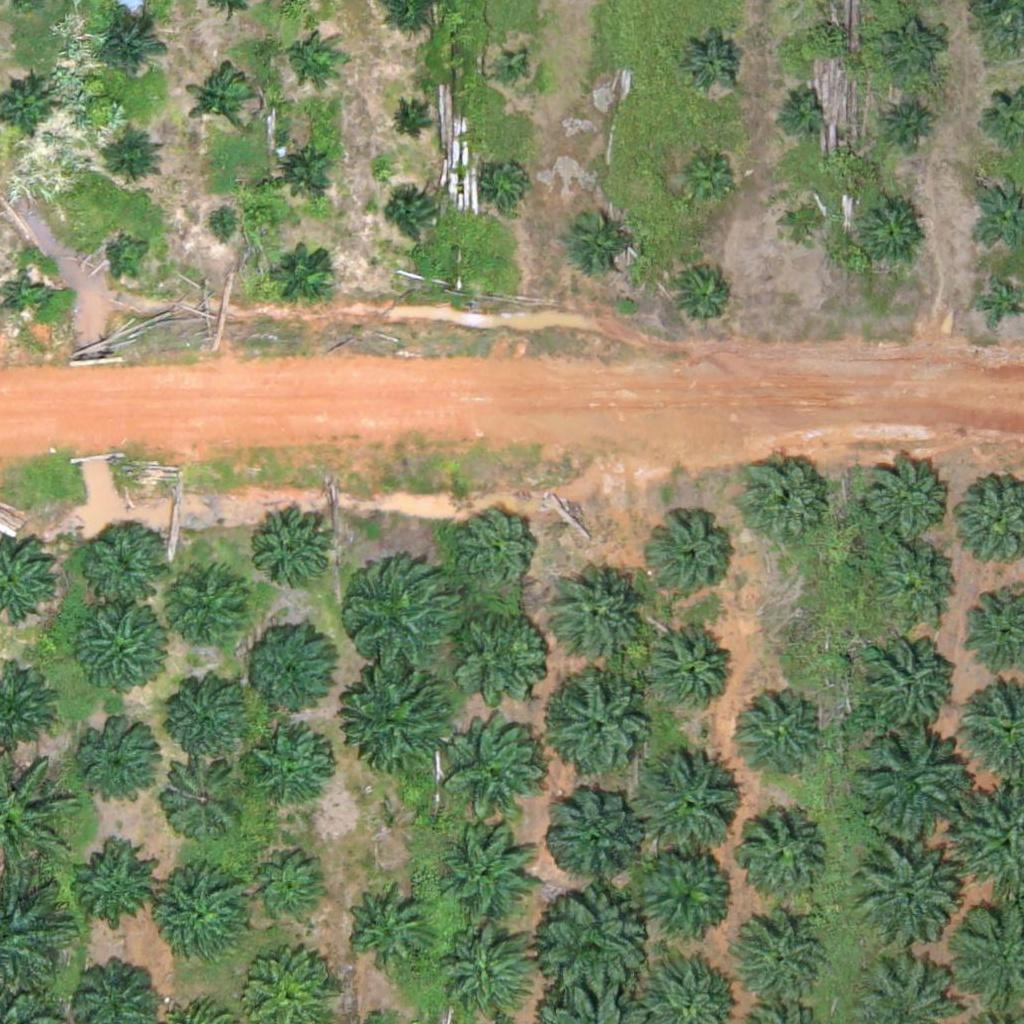Kelapa_Sawit: (340, 552, 465, 678), (853, 729, 965, 843), (628, 745, 740, 858), (545, 673, 657, 786), (538, 892, 650, 1005), (724, 689, 824, 790), (729, 910, 829, 1011), (631, 843, 731, 944), (547, 565, 647, 666), (434, 822, 534, 923), (449, 719, 549, 820), (352, 670, 452, 771), (852, 848, 952, 948), (857, 632, 957, 732), (733, 804, 833, 904), (543, 785, 643, 885), (156, 870, 256, 970), (453, 597, 553, 697), (737, 454, 825, 542), (640, 625, 728, 713), (74, 609, 162, 697), (79, 724, 167, 812), (67, 836, 155, 924), (245, 625, 332, 714), (77, 517, 164, 605), (164, 671, 251, 759), (875, 540, 962, 628), (863, 457, 950, 545), (650, 514, 737, 602), (159, 752, 246, 840), (167, 563, 254, 651), (253, 506, 340, 594), (250, 733, 337, 821), (454, 510, 541, 598), (344, 883, 431, 971), (564, 204, 639, 280), (185, 64, 260, 140), (94, 13, 169, 88), (255, 849, 330, 924), (853, 194, 928, 269), (275, 241, 338, 304), (102, 131, 165, 194), (274, 136, 337, 199), (681, 32, 744, 95), (674, 264, 737, 327), (674, 146, 737, 209), (881, 19, 943, 82), (887, 97, 937, 148), (774, 83, 824, 134), (107, 229, 157, 280), (1, 271, 51, 322), (283, 28, 333, 78), (384, 191, 434, 241), (484, 158, 534, 208), (778, 199, 828, 249), (493, 53, 531, 91), (202, 207, 240, 245), (388, 104, 425, 142)
